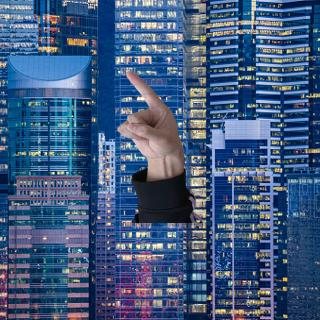IRRITATED: (114, 70, 186, 158)
